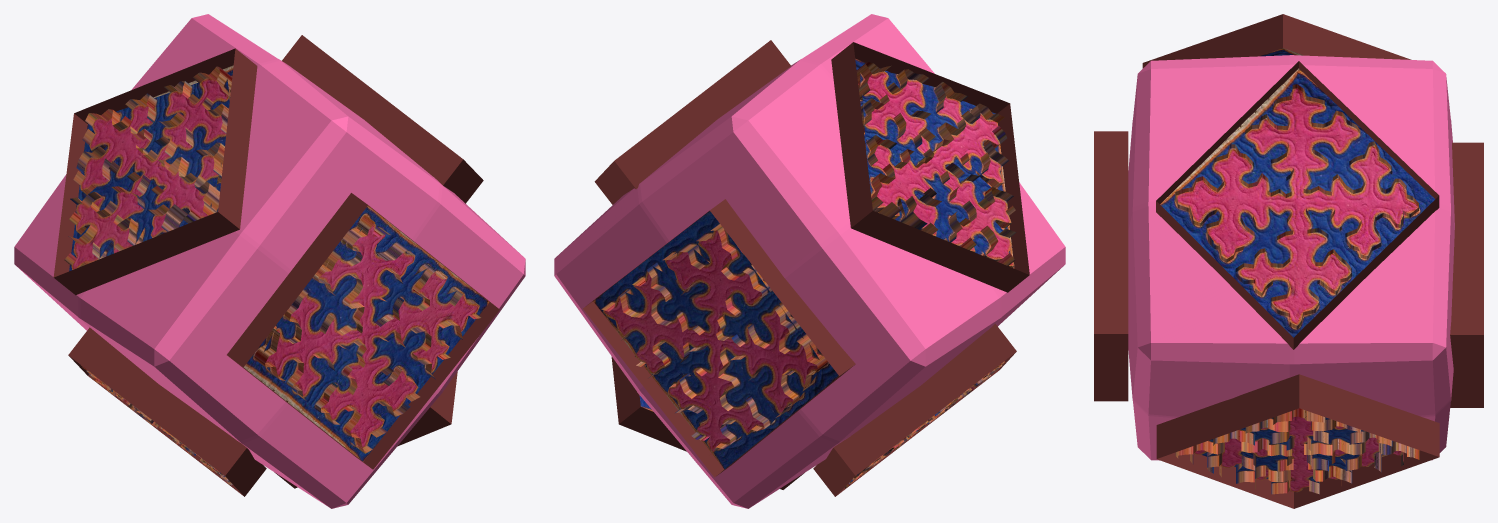
Rendered from pinkBox.fbx.
The picture shows the model from 3 angles, left to right: view 1: azimuth 30°, elevation 25°; view 2: azimuth 150°, elevation 25°; view 3: azimuth 270°, elevation 25°; orthographic projection.
Visible parts, largest first — view 1: Cube.001, Tumblr.001, Tumblr.005, Tumblr.004, Tumblr.003, Tumblr.006; view 2: Cube.001, Tumblr.002, Tumblr.005, Tumblr.004, Tumblr.003, Tumblr.006; view 3: Cube.001, Tumblr.003, Tumblr.006, Tumblr.001, Tumblr.002, Tumblr.005.
Boxes of the visible parts, x1,y1,x2,y2 form: Cube.001: (14, 14, 525, 508); Tumblr.001: (227, 193, 499, 469); Tumblr.005: (53, 48, 257, 295); Tumblr.004: (68, 327, 266, 496); Tumblr.003: (282, 35, 483, 203); Tumblr.006: (274, 371, 457, 488); Cube.001: (554, 14, 1065, 508); Tumblr.002: (583, 199, 855, 477); Tumblr.005: (831, 42, 1029, 292); Tumblr.004: (813, 323, 1016, 496); Tumblr.003: (594, 40, 790, 204); Tumblr.006: (611, 356, 803, 489); Cube.001: (1128, 55, 1454, 460); Tumblr.003: (1156, 61, 1439, 349); Tumblr.006: (1156, 374, 1439, 508); Tumblr.001: (1094, 131, 1128, 401); Tumblr.002: (1450, 142, 1483, 407); Tumblr.005: (1142, 14, 1411, 68).
Size of the model in its own units: 278 by 282 by 215.
